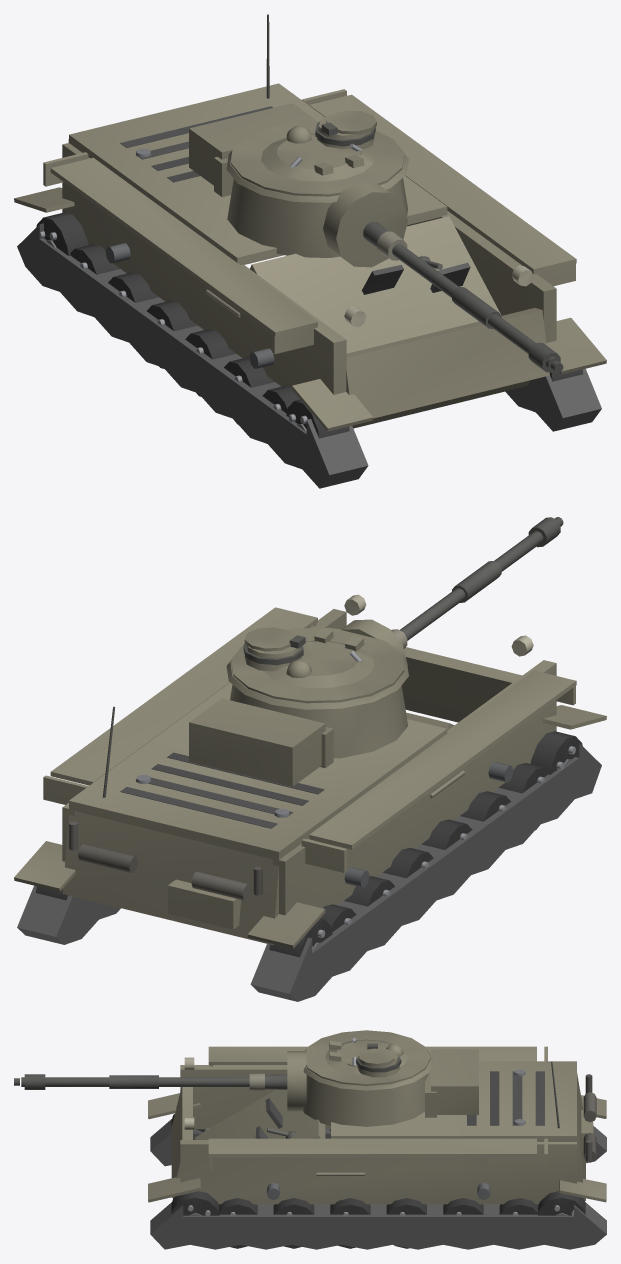
Rendered from centurion.glb.
The picture shows the model from 3 angles, top to bottom: view 1: azimuth 30°, elevation 25°; view 2: azimuth 150°, elevation 25°; view 3: azimuth 270°, elevation 25°; orthographic projection. The views are drawn at different scales.
Visible parts, largest first — view 1: hullSide, tracks, glacis, hullTop, lowerPlate, turretRoof, turretFront, mantlet, barrel, wheel7, turretSide, wheel3 (+6 smaller); view 2: hullSide, tracks, hullTop, hullRear, turretFront, turretRoof, lowerPlate, barrel, turretSide, wheel6, wheel2, wheel3 (+5 smaller); view 3: hullSide, tracks, hullTop, turretFront, turretRoof, glacis, barrel, hullRear, lowerPlate, mantlet, wheel14, wheel15 (+8 smaller).
Part boxes in pixels (bbox=[...]): hullSide: bbox=[43, 89, 576, 394]; tracks: bbox=[14, 187, 606, 488]; glacis: bbox=[250, 216, 530, 428]; hullTop: bbox=[69, 83, 447, 264]; lowerPlate: bbox=[346, 308, 549, 418]; turretRoof: bbox=[231, 110, 404, 196]; turretFront: bbox=[189, 103, 407, 257]; mantlet: bbox=[323, 182, 407, 267]; barrel: bbox=[363, 221, 563, 372]; wheel7: bbox=[36, 212, 88, 255]; turretSide: bbox=[226, 150, 408, 202]; wheel3: bbox=[185, 329, 236, 396]; hullSide: bbox=[43, 594, 576, 915]; tracks: bbox=[14, 705, 606, 1001]; hullTop: bbox=[69, 682, 447, 859]; hullRear: bbox=[62, 706, 278, 944]; turretFront: bbox=[189, 684, 407, 786]; turretRoof: bbox=[231, 627, 404, 703]; lowerPlate: bbox=[401, 647, 522, 722]; barrel: bbox=[391, 517, 563, 648]; turretSide: bbox=[226, 657, 408, 709]; wheel6: bbox=[530, 731, 582, 774]; wheel2: bbox=[383, 848, 433, 878]; wheel3: bbox=[421, 819, 472, 849]; hullSide: bbox=[180, 1046, 576, 1204]; tracks: bbox=[148, 1093, 606, 1249]; hullTop: bbox=[331, 1061, 576, 1141]; turretFront: bbox=[303, 1049, 478, 1126]; turretRoof: bbox=[306, 1030, 430, 1085]; glacis: bbox=[195, 1089, 325, 1139]; barrel: bbox=[14, 1073, 287, 1090]; hullRear: bbox=[551, 1061, 596, 1200]; lowerPlate: bbox=[171, 1087, 192, 1197]; mantlet: bbox=[287, 1051, 306, 1111]; wheel14: bbox=[171, 1191, 219, 1216]; wheel15: bbox=[538, 1191, 585, 1216].
Size of the model in its own units: 4.23 by 3.09 by 9.87.
